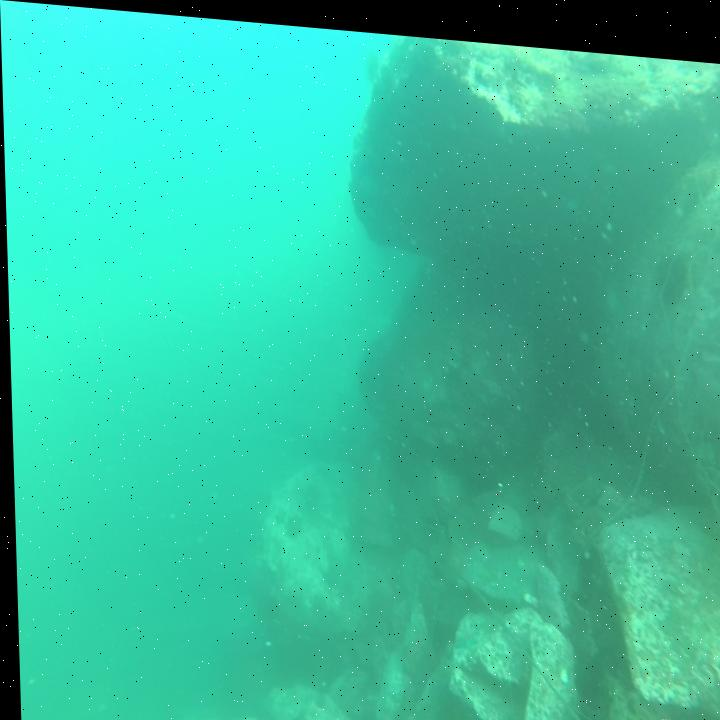echinus: (654, 237, 686, 295), (281, 506, 300, 535)
